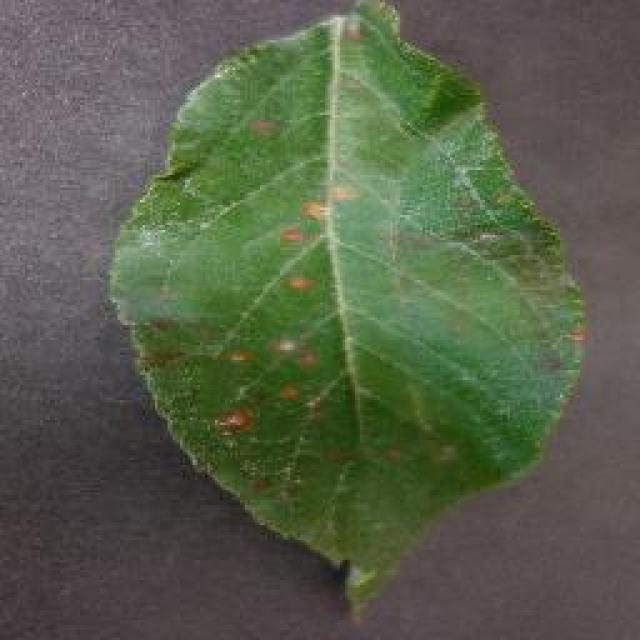apple cedar apple rust: (105, 0, 587, 618)
